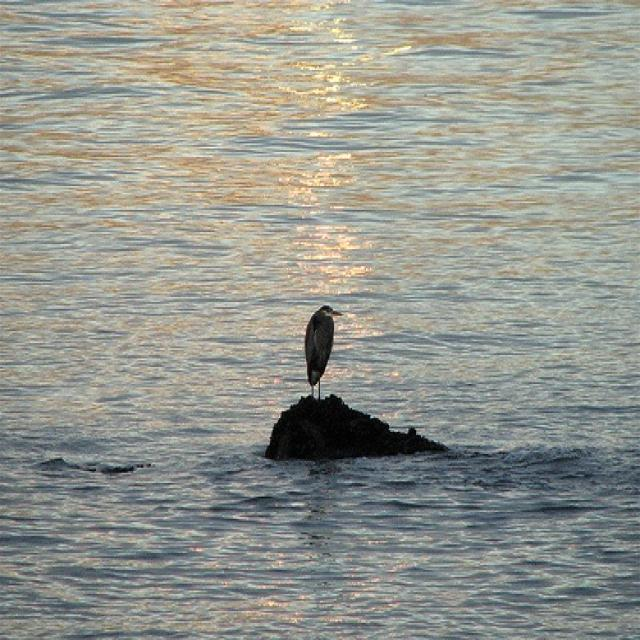bird: (303, 306, 343, 400)
